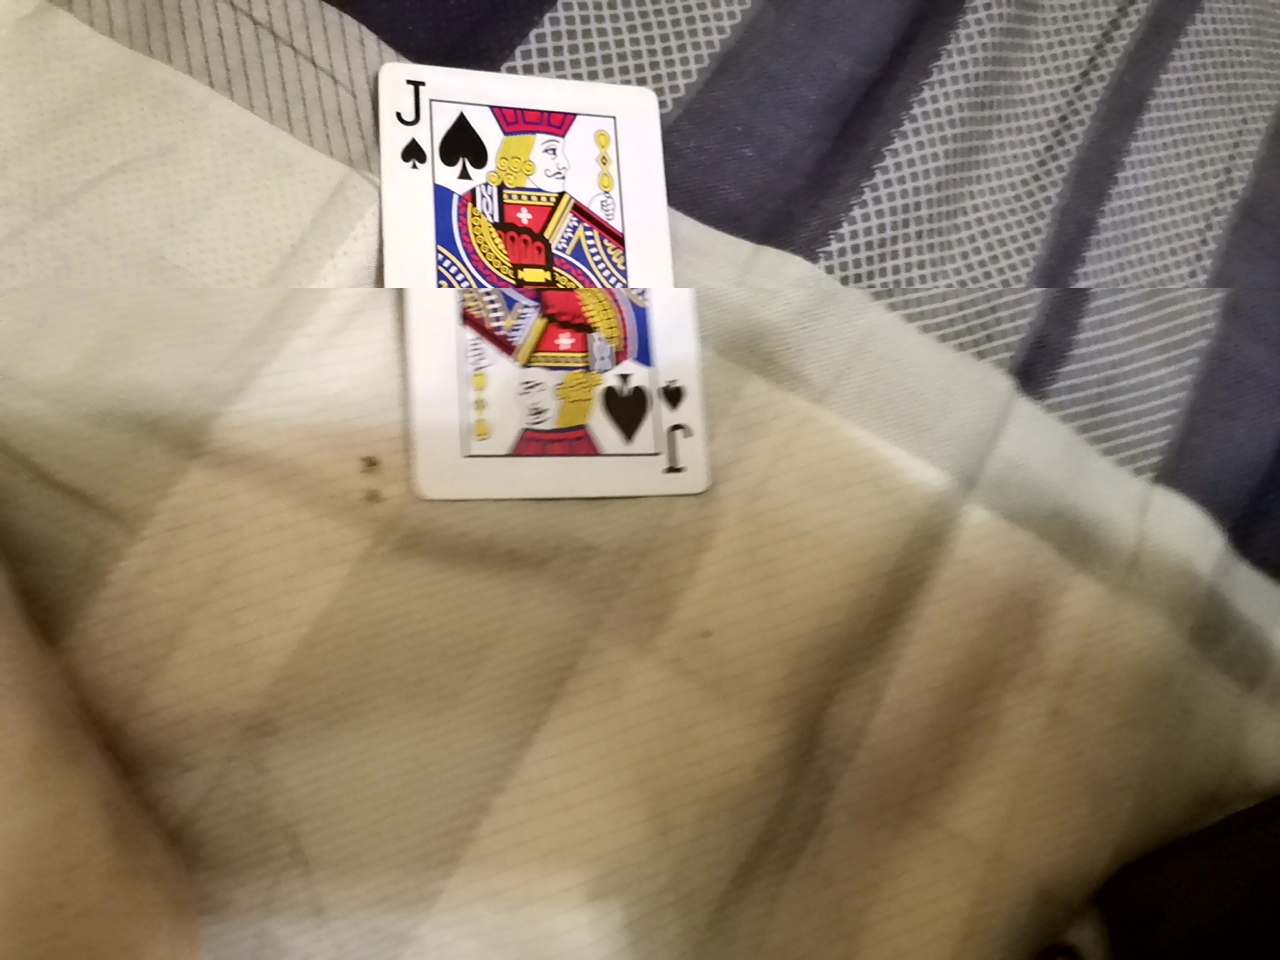ht j: (357, 67, 692, 509)
